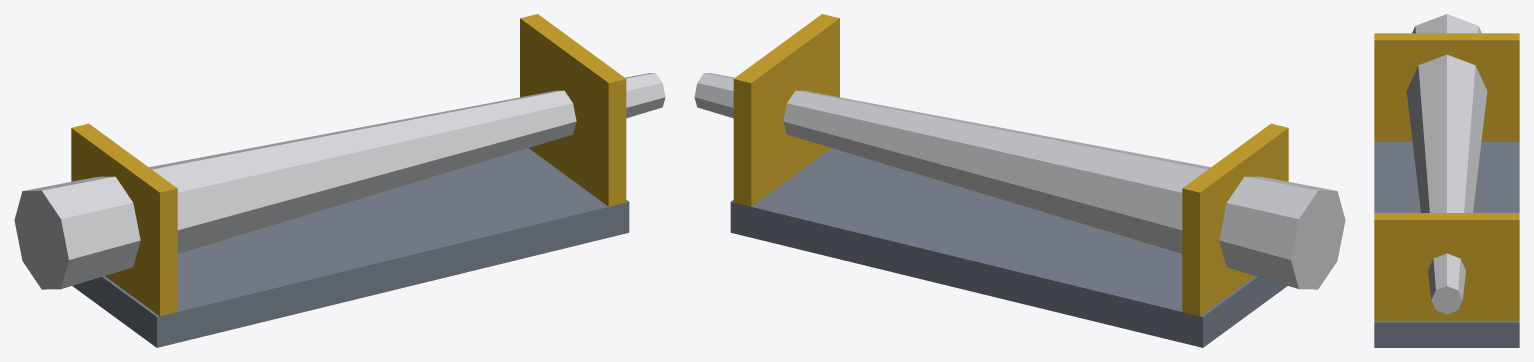
Rendered from flatrack.glb.
The picture shows the model from 3 angles, left to right: view 1: azimuth 30°, elevation 25°; view 2: azimuth 150°, elevation 25°; view 3: azimuth 270°, elevation 25°; orthographic projection. The views are drawn at different scales.
Visible parts, largest first — view 1: flatrack; view 2: flatrack; view 3: flatrack.
Boxes of the visible parts, x1,y1,x2,y2 form: flatrack: (14, 14, 665, 347); flatrack: (694, 14, 1345, 347); flatrack: (1374, 14, 1519, 347).
Bounding box in the file's own units: 5.2 × 1.25 × 1.3.
